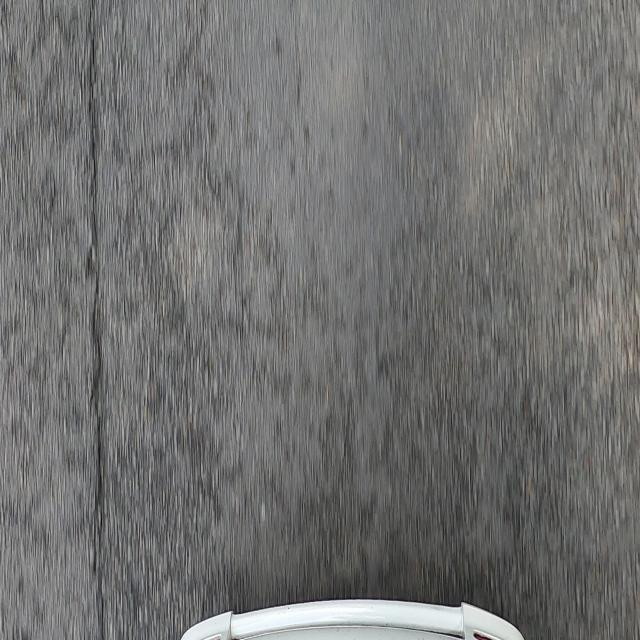Retak-Memanjang: (86, 0, 111, 639)
